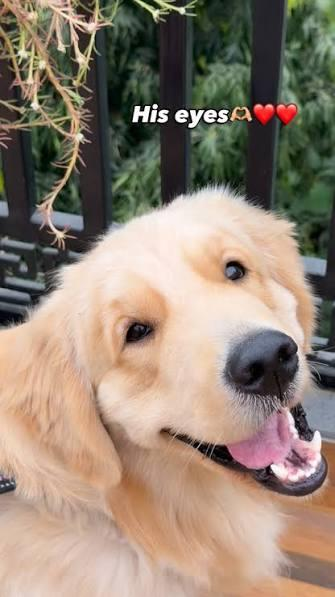adult_dog: (0, 188, 326, 596)
